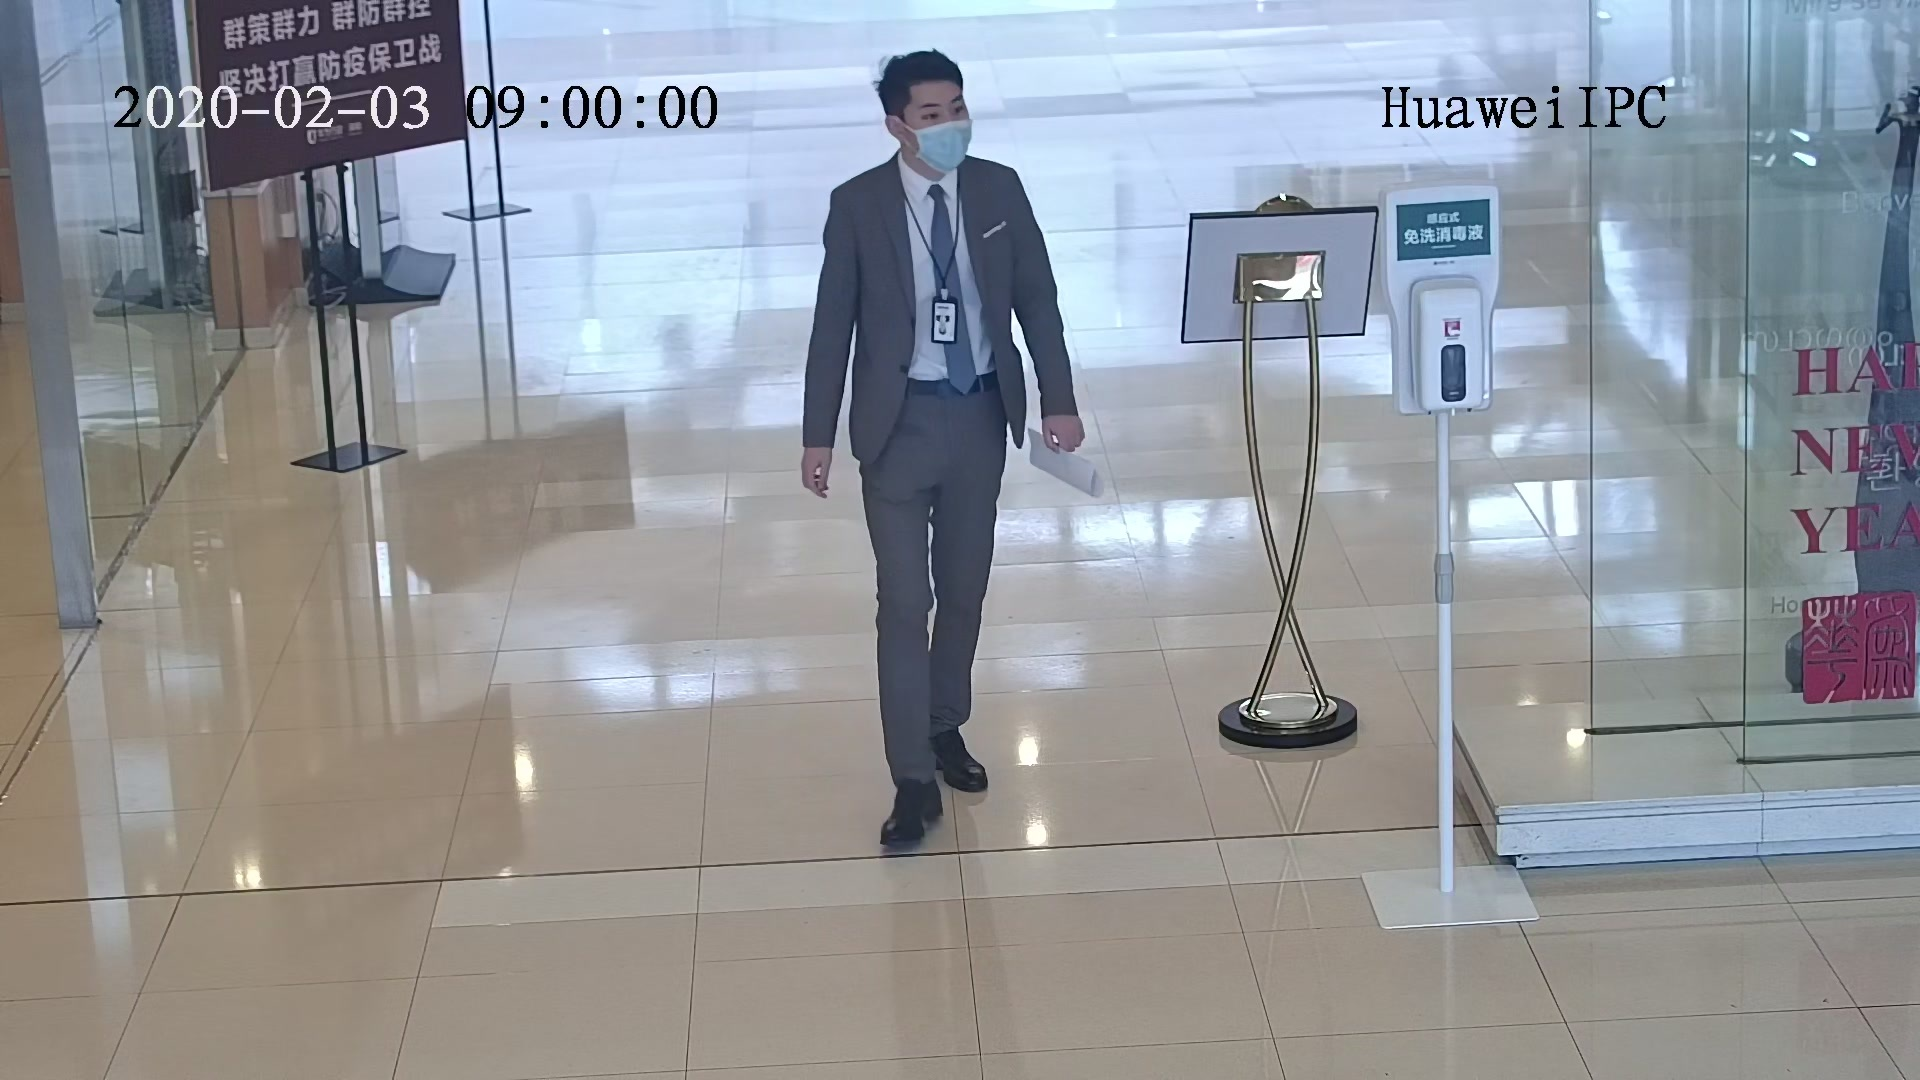face: (898, 73, 973, 173)
mask: (910, 120, 963, 166)
person: (822, 45, 1037, 233)
